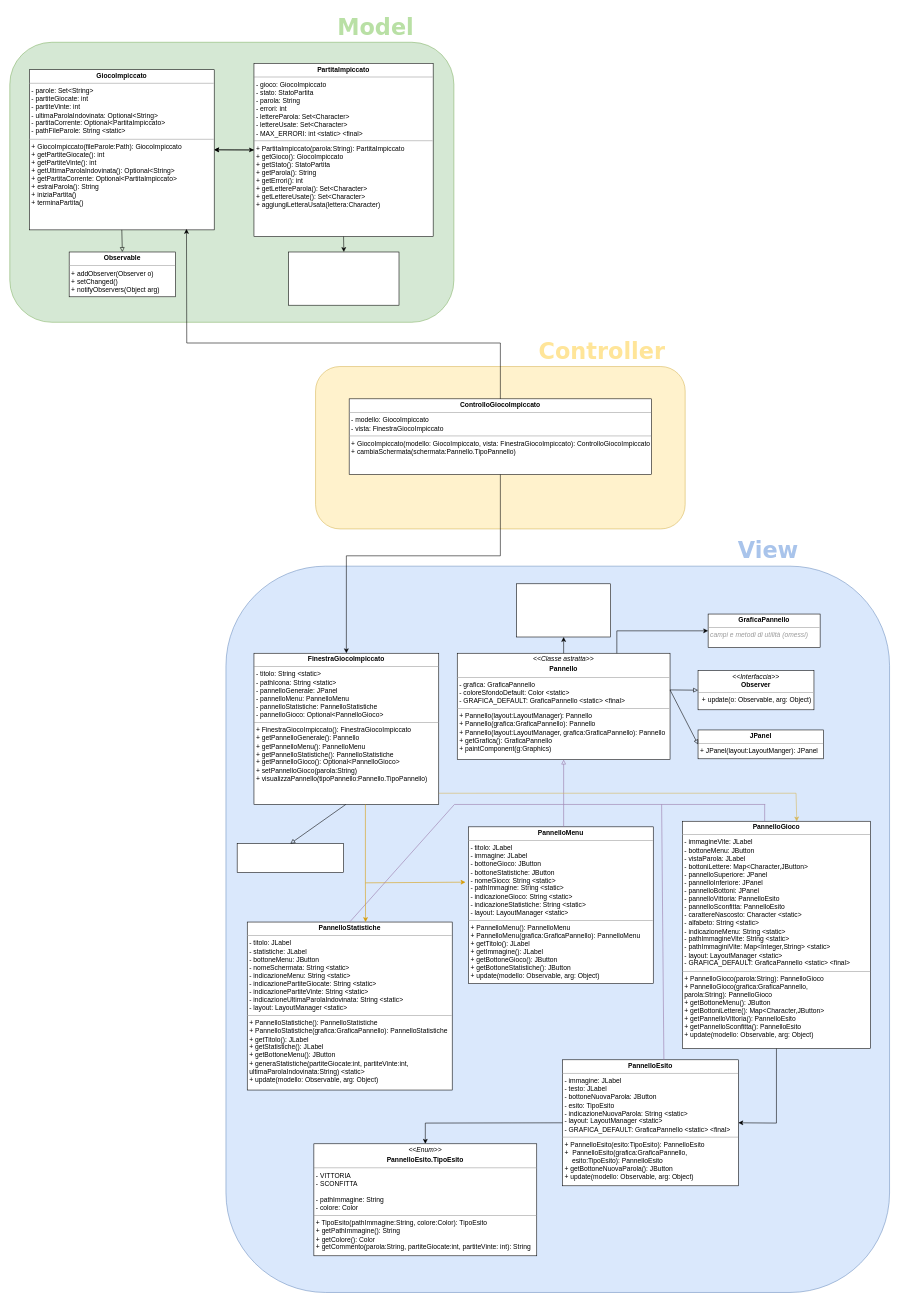
This 899x1302 diagram has some shape labels left out. Each missing label, with the box of its shape:
<<Enum>> Pannello.TipoPannello - MENU - STATISTICHE - GIOCO: (516, 583, 611, 637)
<<Enum>> PartitaImpiccato.StatoPartita - IN CORSO - PERSA - VINTA: (288, 251, 399, 305)
JFrame + JFrame(titolo:String): JFrame: (237, 843, 344, 872)
